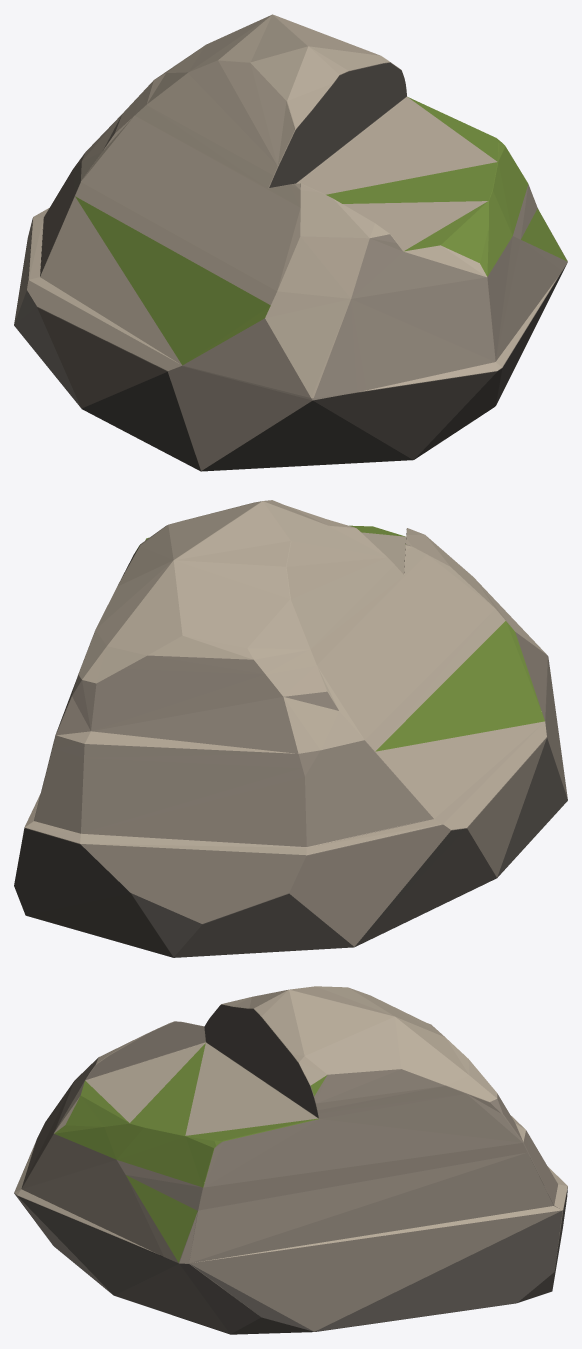
3 renders of one model, top to bottom at view 1: azimuth 30°, elevation 25°; view 2: azimuth 150°, elevation 25°; view 3: azimuth 270°, elevation 25°, orthographic. The views are drawn at different scales.
Parts seen in each view (by area): view 1: rock; view 2: rock; view 3: rock.
Boxes of the visible parts, bbox=[...] form: rock: bbox=[14, 14, 567, 471]; rock: bbox=[14, 500, 567, 957]; rock: bbox=[14, 986, 567, 1334].
Size of the model in its own units: 2.2 by 1.5 by 2.8.
